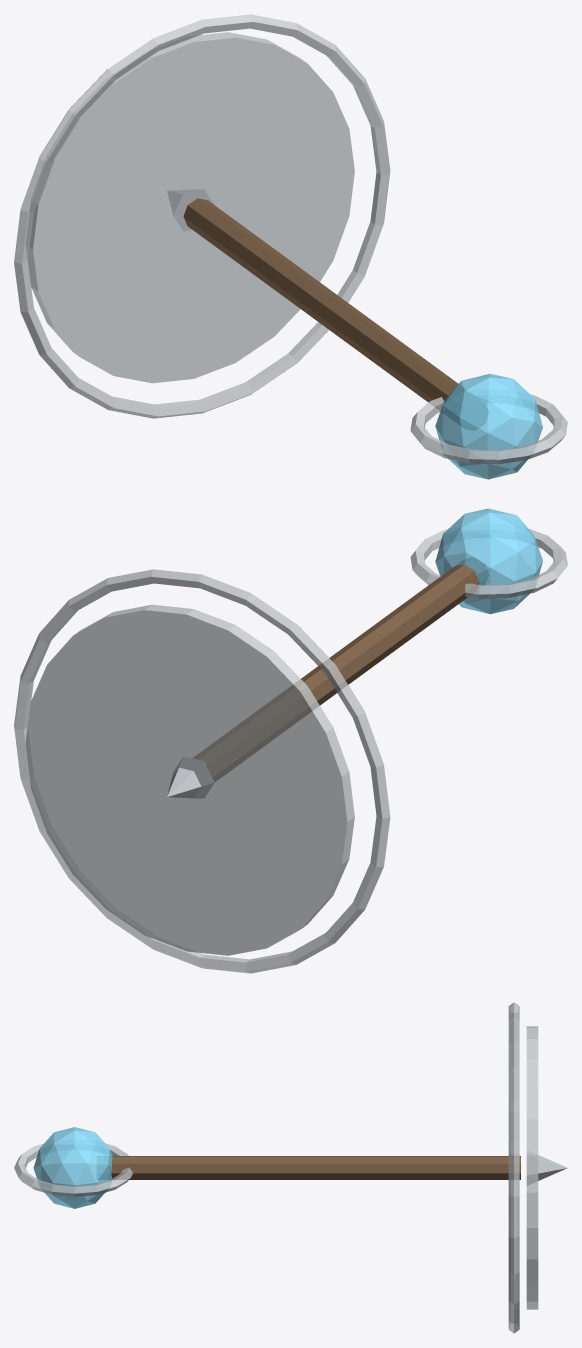
The model's file is weapon_pickup_apprentice_staff_common.glb.
3 views of the same model, one above another, from view 1: azimuth 30°, elevation 25°; view 2: azimuth 150°, elevation 25°; view 3: azimuth 270°, elevation 25° (orthographic). The views are drawn at different scales.
Visible parts, largest first — view 1: rarity_base_disc, rarity_orbit_ring, staff, orb, orb_ring, bottom_cap; view 2: rarity_base_disc, rarity_orbit_ring, staff, orb, orb_ring, bottom_cap; view 3: staff, orb, rarity_orbit_ring, rarity_base_disc, orb_ring, bottom_cap.
Boxes of the visible parts, x1,y1,x2,y2 form: rarity_base_disc: [26, 32, 354, 383]; rarity_orbit_ring: [14, 14, 390, 418]; staff: [183, 198, 458, 410]; orb: [435, 373, 542, 479]; orb_ring: [410, 394, 567, 464]; bottom_cap: [167, 189, 213, 231]; rarity_base_disc: [25, 604, 354, 955]; rarity_orbit_ring: [14, 569, 390, 973]; staff: [194, 564, 479, 781]; orb: [435, 508, 542, 614]; orb_ring: [410, 528, 567, 598]; bottom_cap: [167, 757, 213, 798]; staff: [111, 1156, 520, 1179]; orb: [33, 1127, 112, 1208]; rarity_orbit_ring: [508, 1002, 519, 1333]; rarity_base_disc: [526, 1026, 538, 1309]; orb_ring: [14, 1143, 132, 1196]; bottom_cap: [527, 1150, 567, 1185].
Size of the model in its own units: 1.45 by 1.45 by 2.42.
